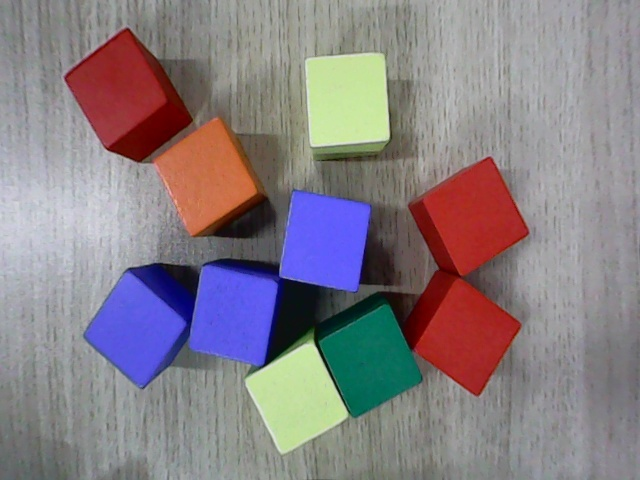upside of small cube: (413, 276, 523, 397), (420, 157, 530, 277), (63, 28, 169, 149), (242, 340, 350, 457), (151, 117, 257, 236), (82, 271, 186, 392), (318, 304, 423, 419), (186, 263, 279, 366), (279, 189, 371, 292), (306, 50, 391, 148)
